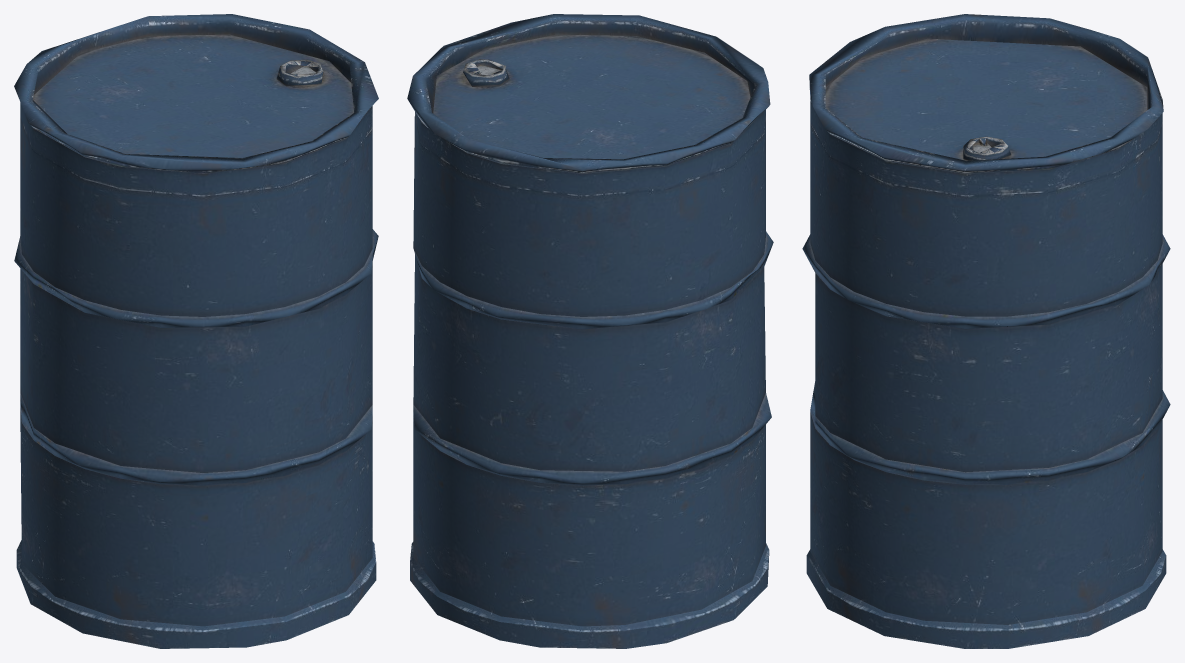
The model's file is barrel_03_opt.gltf.
The picture shows the model from 3 angles, left to right: view 1: azimuth 30°, elevation 25°; view 2: azimuth 150°, elevation 25°; view 3: azimuth 270°, elevation 25°; orthographic projection.
Parts seen in each view (by area): view 1: barrel_03; view 2: barrel_03; view 3: barrel_03.
Part boxes in pixels (x1,y1,x2,y2): barrel_03: [14, 14, 378, 648]; barrel_03: [407, 14, 773, 648]; barrel_03: [802, 14, 1170, 648].
Bounding box in the file's own units: 0.6312 × 0.9305 × 0.6386.
1 material, 1 textured.
